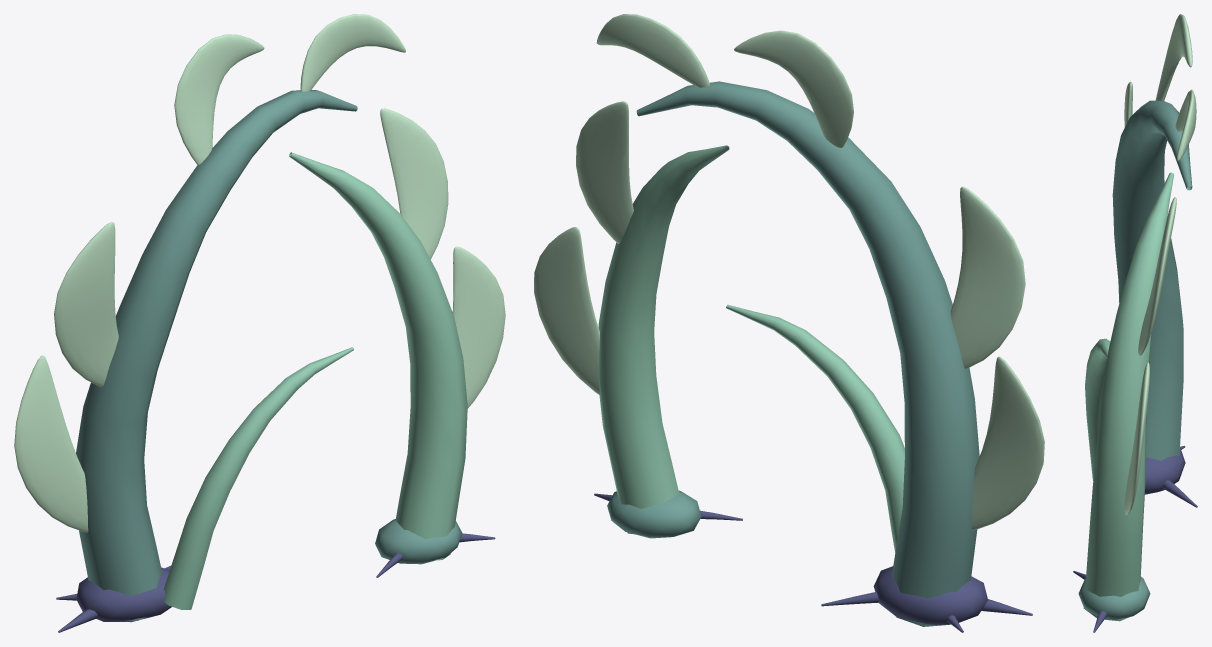
Rendered from kelp_cathedral_arch.glb.
The picture shows the model from 3 angles, left to right: view 1: azimuth 30°, elevation 25°; view 2: azimuth 150°, elevation 25°; view 3: azimuth 270°, elevation 25°; orthographic projection. The views are drawn at different scales.
Visible parts, largest first — view 1: old_kelp_left, old_kelp_right, kelp_blade_0, broken_side_stalk, kelp_blade_1, kelp_blade_4, kelp_blade_3, kelp_blade_2, kelp_blade_5, left_holdfast, right_holdfast; view 2: old_kelp_left, old_kelp_right, kelp_blade_1, kelp_blade_0, kelp_blade_3, broken_side_stalk, kelp_blade_4, kelp_blade_2, kelp_blade_5, left_holdfast, right_holdfast; view 3: old_kelp_right, old_kelp_left, broken_side_stalk, right_holdfast, kelp_blade_4, kelp_blade_3, kelp_blade_2, left_holdfast, kelp_blade_5, kelp_blade_1, root_finger_2.
Boxes of the visible parts, <box> form: old_kelp_left: <box>76,90,357,621</box>; old_kelp_right: <box>289,152,467,560</box>; kelp_blade_0: <box>14,355,88,532</box>; broken_side_stalk: <box>164,347,353,609</box>; kelp_blade_1: <box>54,222,118,387</box>; kelp_blade_4: <box>380,108,448,259</box>; kelp_blade_3: <box>452,246,505,408</box>; kelp_blade_2: <box>174,34,264,165</box>; kelp_blade_5: <box>300,14,405,91</box>; left_holdfast: <box>76,567,171,622</box>; right_holdfast: <box>375,519,462,564</box>; old_kelp_left: <box>636,81,979,626</box>; old_kelp_right: <box>598,145,729,534</box>; kelp_blade_1: <box>950,186,1025,368</box>; kelp_blade_0: <box>971,356,1044,530</box>; kelp_blade_3: <box>534,227,599,395</box>; broken_side_stalk: <box>726,304,904,552</box>; kelp_blade_4: <box>576,101,633,243</box>; kelp_blade_2: <box>734,30,853,147</box>; kelp_blade_5: <box>596,14,709,87</box>; left_holdfast: <box>873,566,988,625</box>; right_holdfast: <box>607,490,701,538</box>; old_kelp_right: <box>1083,172,1173,621</box>; old_kelp_left: <box>1112,100,1192,460</box>; broken_side_stalk: <box>1085,338,1110,480</box>; right_holdfast: <box>1078,576,1150,619</box>; kelp_blade_4: <box>1138,197,1176,355</box>; kelp_blade_3: <box>1124,362,1149,514</box>; kelp_blade_2: <box>1155,14,1192,100</box>; left_holdfast: <box>1145,447,1185,494</box>; kelp_blade_5: <box>1175,89,1196,160</box>; kelp_blade_1: <box>1124,81,1132,127</box>; root_finger_2: <box>1163,480,1197,507</box>.
Size of the model in its own units: 10.77 by 11.4 by 2.48.
